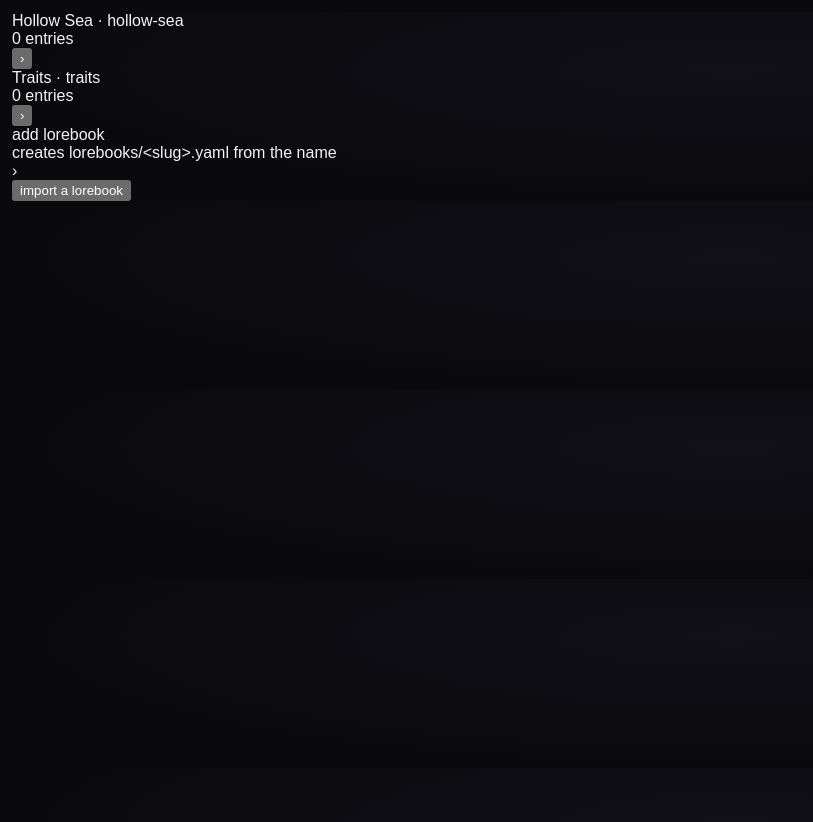
Scenario: LorebooksEditor · the shelf › expanding a row mounts exactly ONE book editor
Click the button named "expand Hollow Sea" at coordinates (22, 58), box [12, 48, 32, 69]
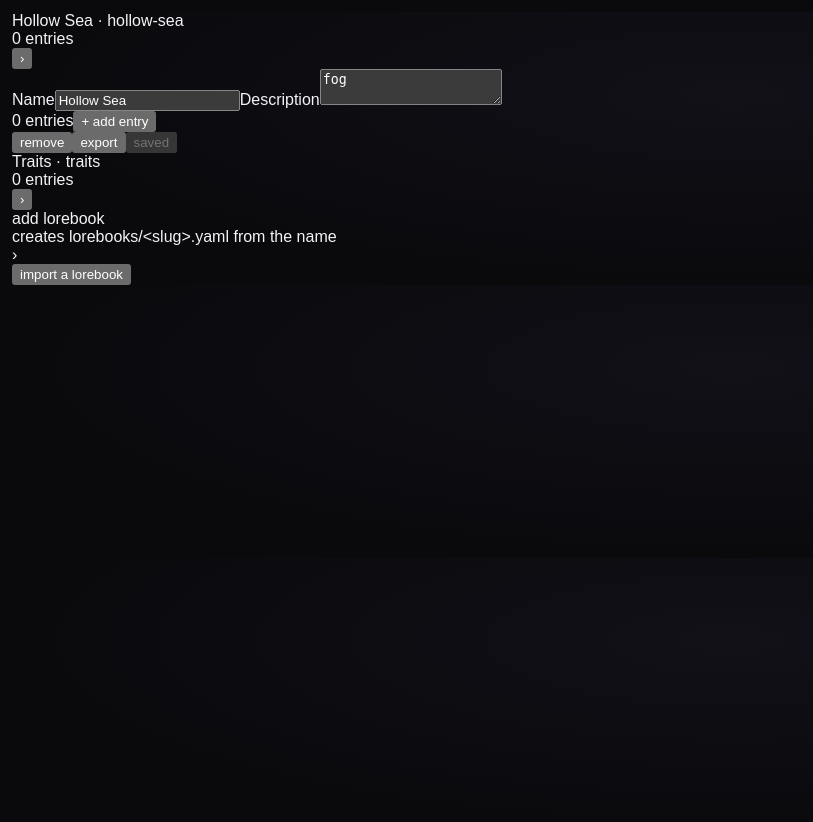
Expected: the number of fields named "Lorebook name" is 1, [55, 90, 240, 111]
Expected: the field named "Lorebook name" holds "Hollow Sea", [55, 90, 240, 111]
Expected: the text box named "Lorebook description" holds "fog", [320, 69, 502, 105]
